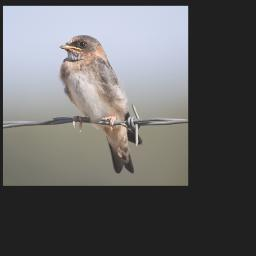Swallow: (58, 33, 143, 174)
